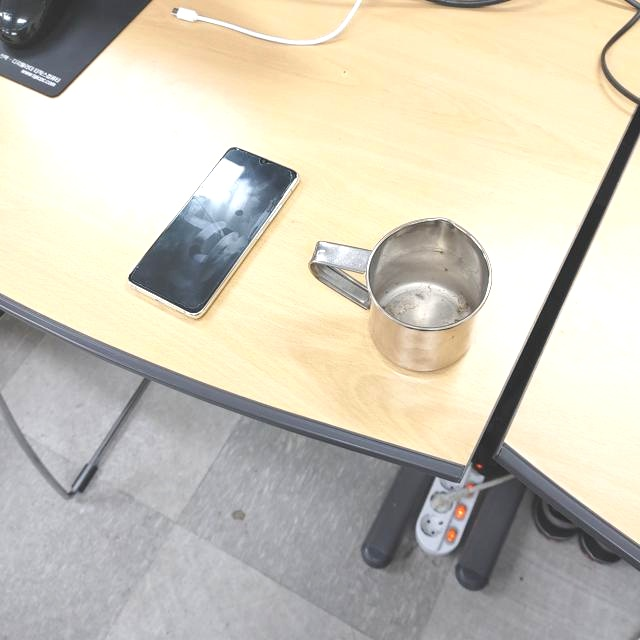cup: (307, 215, 488, 373)
phone: (123, 144, 296, 320)
